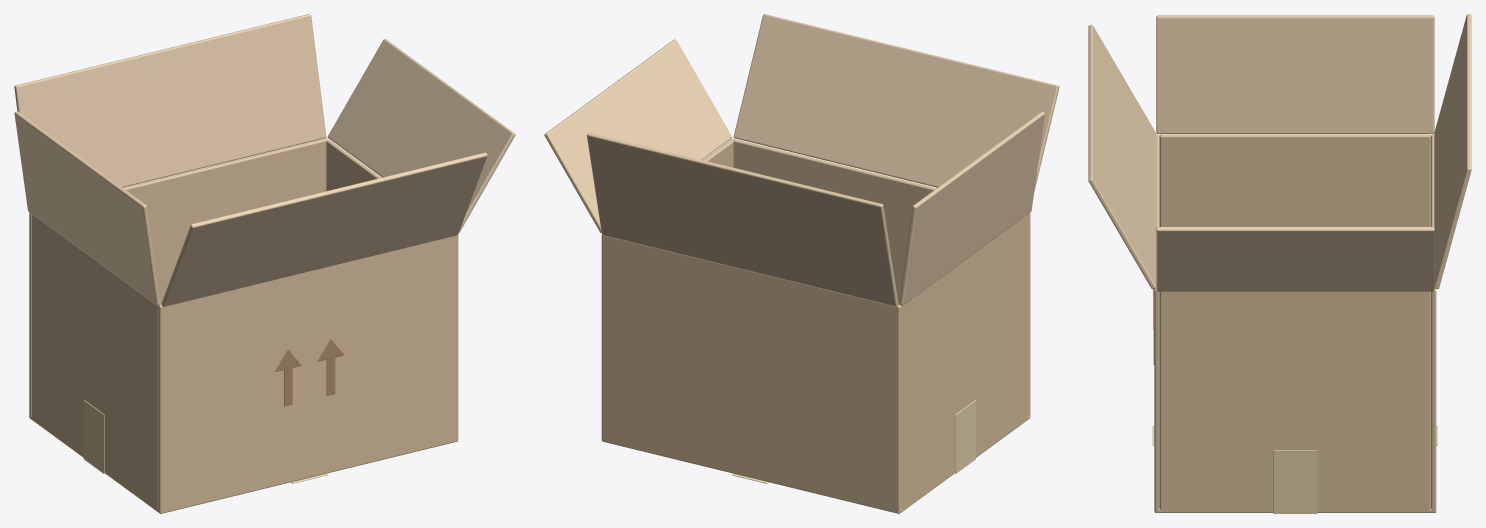
The picture shows the model from 3 angles, left to right: view 1: azimuth 30°, elevation 25°; view 2: azimuth 150°, elevation 25°; view 3: azimuth 270°, elevation 25°; orthographic projection. The views are drawn at different scales.
Parts seen in each view (by area): view 1: Box_Wall_Front, Box_Flap_Back_Mesh, Box_Wall_Left, Box_Flap_Front_Mesh, Box_Flap_Right_Mesh, Box_Flap_Left_Mesh, Box_Wall_Back, Box_Wall_Right, Box_Tape_Sides, Box_Print, Box_Bottom; view 2: Box_Wall_Back, Box_Flap_Front_Mesh, Box_Flap_Back_Mesh, Box_Wall_Left, Box_Flap_Right_Mesh, Box_Flap_Left_Mesh, Box_Wall_Front, Box_Tape_Sides, Box_Bottom; view 3: Box_Wall_Right, Box_Flap_Left_Mesh, Box_Wall_Left, Box_Flap_Right_Mesh, Box_Flap_Front_Mesh, Box_Flap_Back_Mesh, Box_Tape_Sides, Box_Wall_Front, Box_Wall_Back, Box_Bottom.
Part boxes in pixels (bbox=[...]): Box_Wall_Front: bbox=[158, 235, 458, 513]; Box_Flap_Back_Mesh: bbox=[14, 14, 326, 187]; Box_Wall_Left: bbox=[32, 214, 160, 510]; Box_Flap_Front_Mesh: bbox=[161, 152, 487, 306]; Box_Flap_Right_Mesh: bbox=[327, 39, 515, 232]; Box_Flap_Left_Mesh: bbox=[14, 111, 160, 305]; Box_Wall_Back: bbox=[29, 138, 328, 416]; Box_Wall_Right: bbox=[326, 140, 380, 191]; Box_Tape_Sides: bbox=[83, 400, 104, 473]; Box_Print: bbox=[275, 339, 344, 406]; Box_Bottom: bbox=[29, 416, 457, 513]; Box_Wall_Back: bbox=[601, 235, 901, 513]; Box_Flap_Front_Mesh: bbox=[733, 14, 1059, 190]; Box_Flap_Back_Mesh: bbox=[586, 132, 898, 306]; Box_Wall_Left: bbox=[898, 214, 1027, 510]; Box_Flap_Right_Mesh: bbox=[544, 39, 732, 232]; Box_Flap_Left_Mesh: bbox=[899, 111, 1044, 305]; Box_Wall_Front: bbox=[731, 138, 1030, 418]; Box_Tape_Sides: bbox=[955, 400, 975, 473]; Box_Bottom: bbox=[601, 416, 1030, 513]; Box_Wall_Right: bbox=[1159, 291, 1430, 512]; Box_Flap_Left_Mesh: bbox=[1156, 15, 1434, 133]; Box_Wall_Left: bbox=[1159, 134, 1430, 226]; Box_Flap_Right_Mesh: bbox=[1156, 227, 1434, 291]; Box_Flap_Front_Mesh: bbox=[1088, 24, 1155, 289]; Box_Flap_Back_Mesh: bbox=[1434, 14, 1471, 288]; Box_Tape_Sides: bbox=[1273, 450, 1317, 513]; Box_Wall_Front: bbox=[1154, 134, 1159, 512]; Box_Wall_Back: bbox=[1431, 134, 1436, 512]; Box_Bottom: bbox=[1154, 508, 1436, 512].
Size of the model in its own units: 0.5241 by 0.4328 by 0.4354.
